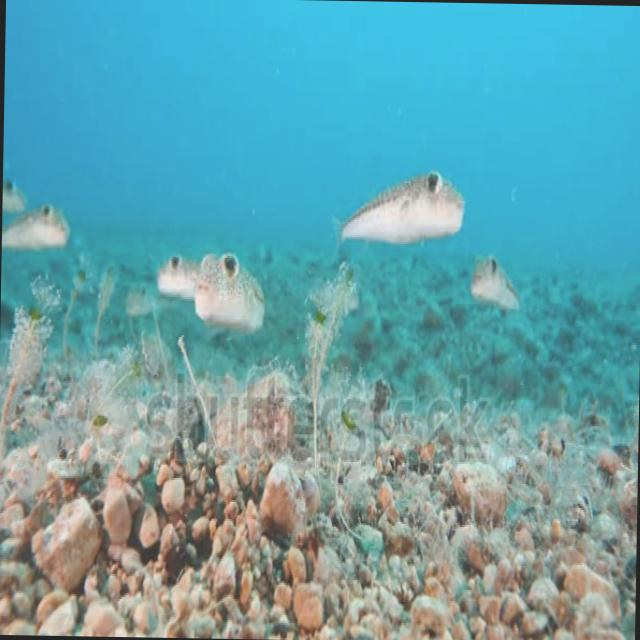Balon Baligi: (334, 166, 466, 250), (192, 238, 270, 334), (1, 192, 70, 258), (472, 242, 526, 326), (160, 242, 200, 302)
